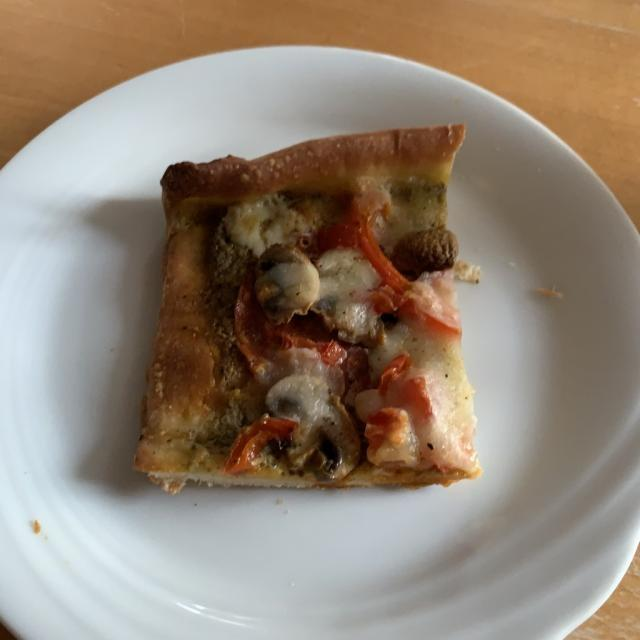pizza: (139, 129, 472, 489)
